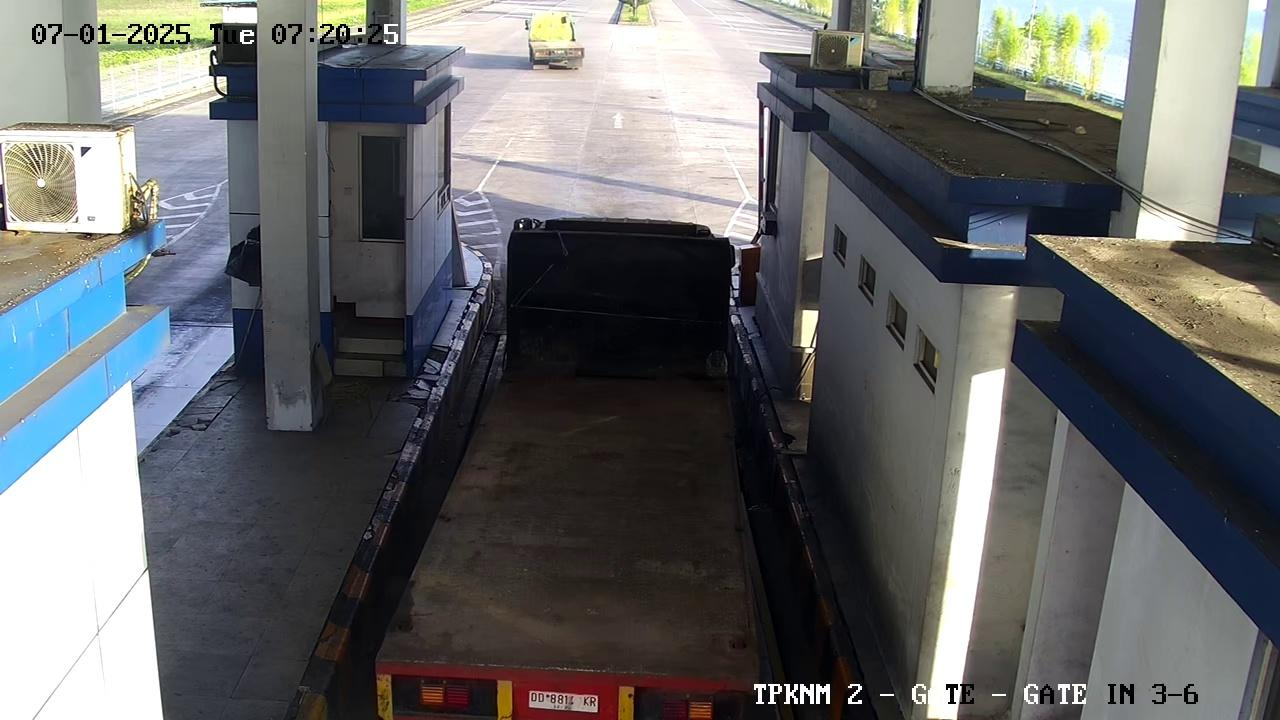plate_number: (517, 679, 606, 719)
